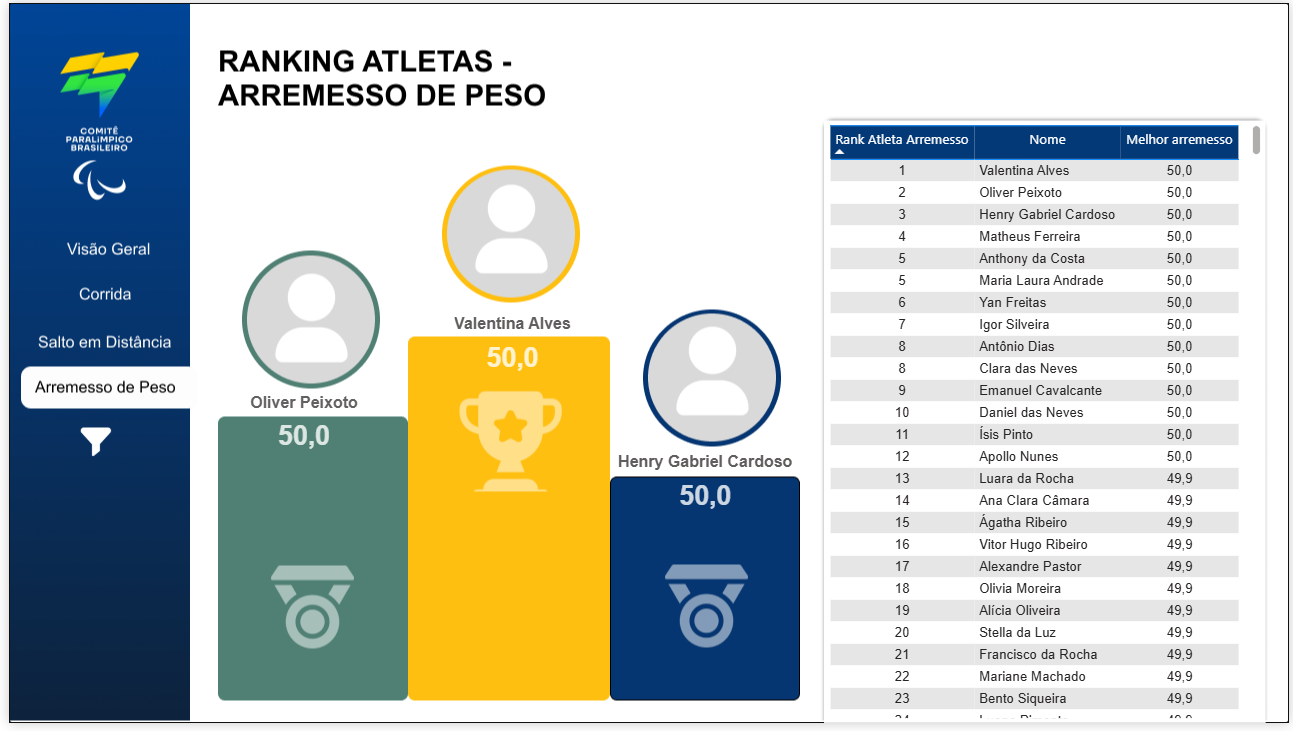

The dashboard page shown, as its layout file describes it:
{"tool":"powerbi","page":{"name":"Ranking Arremesso de Peso","canvas":[1280,720],"ordinal":3},"visuals":[{"type":"tableEx","fields":{"Values":["_medidas.rank_atleta_arremesso","D_atletas.nome","_medidas.melhor_arremesso"]},"box":[825,117.5,442.5,602.5],"z":0},{"type":"cardVisual","fields":{"Data":["_medidas.top 2 arremesso"]},"box":[170,368.6,250,102.9],"z":5000},{"type":"cardVisual","fields":{"Data":["_medidas.top 1 arremesso"]},"box":[397.7,290.7,212.8,100],"z":6000},{"type":"cardVisual","fields":{"Data":["_medidas.top 3 arremesso"]},"box":[579,409.8,235.4,140],"z":7000},{"type":"image","box":[51.4,420,71.4,35.7],"z":8000},{"type":"actionButton","box":[21.1,226.7,158.9,40],"z":9000},{"type":"actionButton","box":[13.3,316.7,167.8,40],"z":10000},{"type":"actionButton","box":[13.3,356.7,167.8,46.7],"z":11000},{"type":"actionButton","box":[13.3,266.7,167.8,50],"z":12000},{"type":"actionButton","box":[298.8,643.8,55,53.8],"z":14000},{"type":"actionButton","box":[317,10,46,40],"z":15000}]}

Visuals, with their boxes in screenshot pixels (x1, y1, x2, y2), scaled from the page's 1280x720 canvas onto the 1293x731 screenshot:
tableEx - _medidas.rank_atleta_arremesso x D_atletas.nome: (833,119,1280,730)
cardVisual - _medidas.top 2 arremesso: (172,374,424,479)
cardVisual - _medidas.top 1 arremesso: (402,295,617,397)
cardVisual - _medidas.top 3 arremesso: (585,416,823,558)
image: (52,426,124,463)
actionButton: (21,230,182,271)
actionButton: (13,322,183,362)
actionButton: (13,362,183,410)
actionButton: (13,271,183,322)
actionButton: (302,654,357,708)
actionButton: (320,10,367,51)
